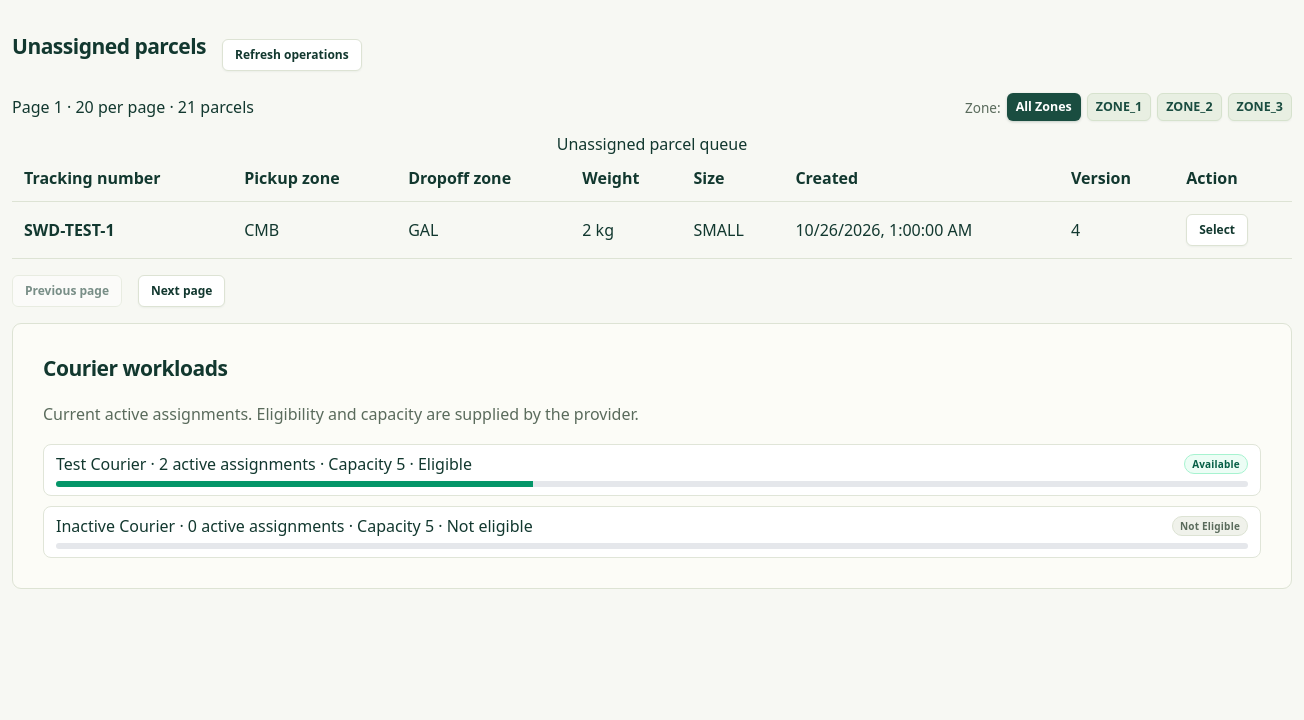
Dispatcher operations › shows workloads, provider eligibility and selected parcel details
Click the button with aria-label "Select SWD-TEST-1": x=1217, y=230 [1186,214,1248,246]
(page scrolled)
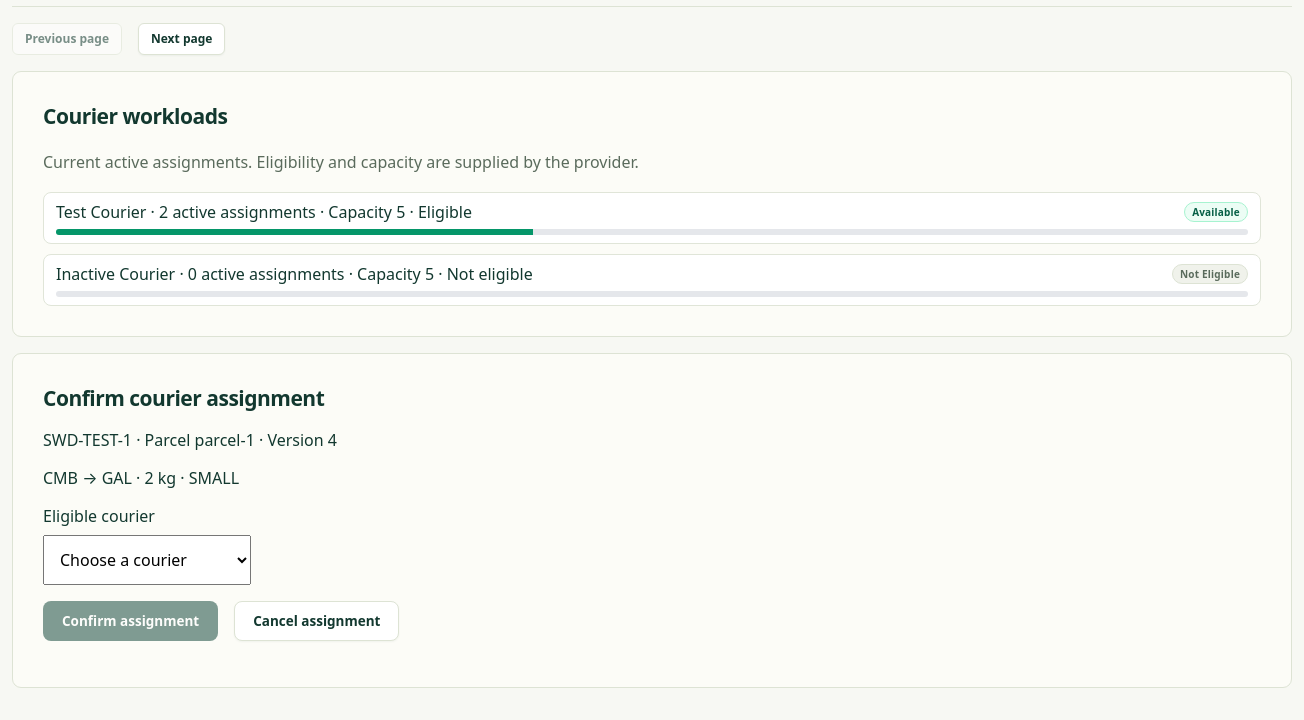
Select "Test Courier (2 active)" in the dropdown labelled "Eligible courier": x=147, y=560 [43,535,251,585]
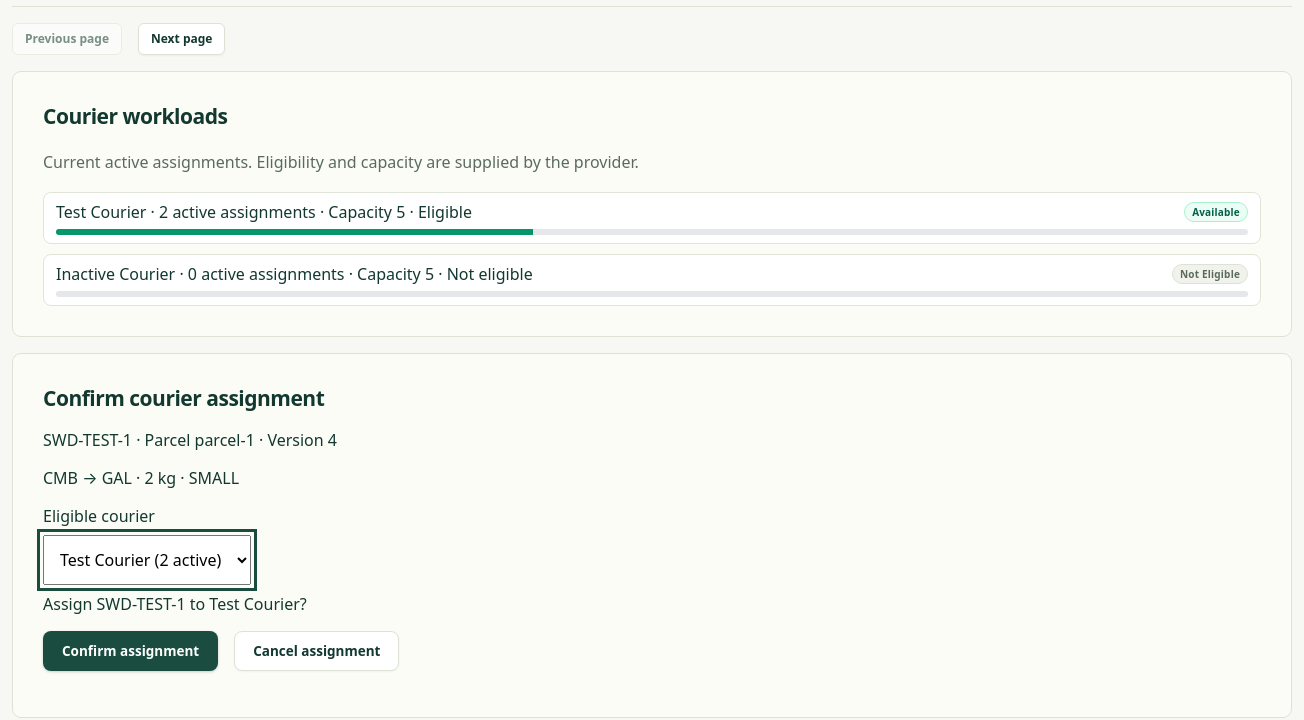
Expected: the text "Test Courier · 2 active assignments · Capacity 5 · Eligible" is shown, [56,201,472,223]
Expected: the text "SWD-TEST-1 · Parcel parcel-1 · Version 4" is shown, [43,429,337,451]
Expected: the text "Assign SWD-TEST-1 to Test Courier?" is shown, [43,593,307,615]
